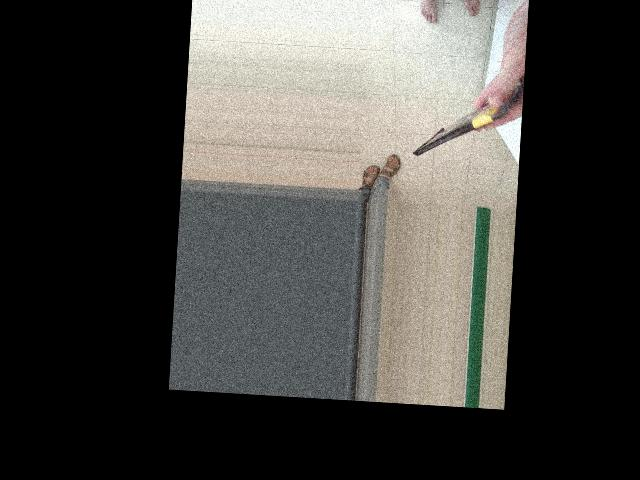chocolate: (393, 47, 473, 154)
